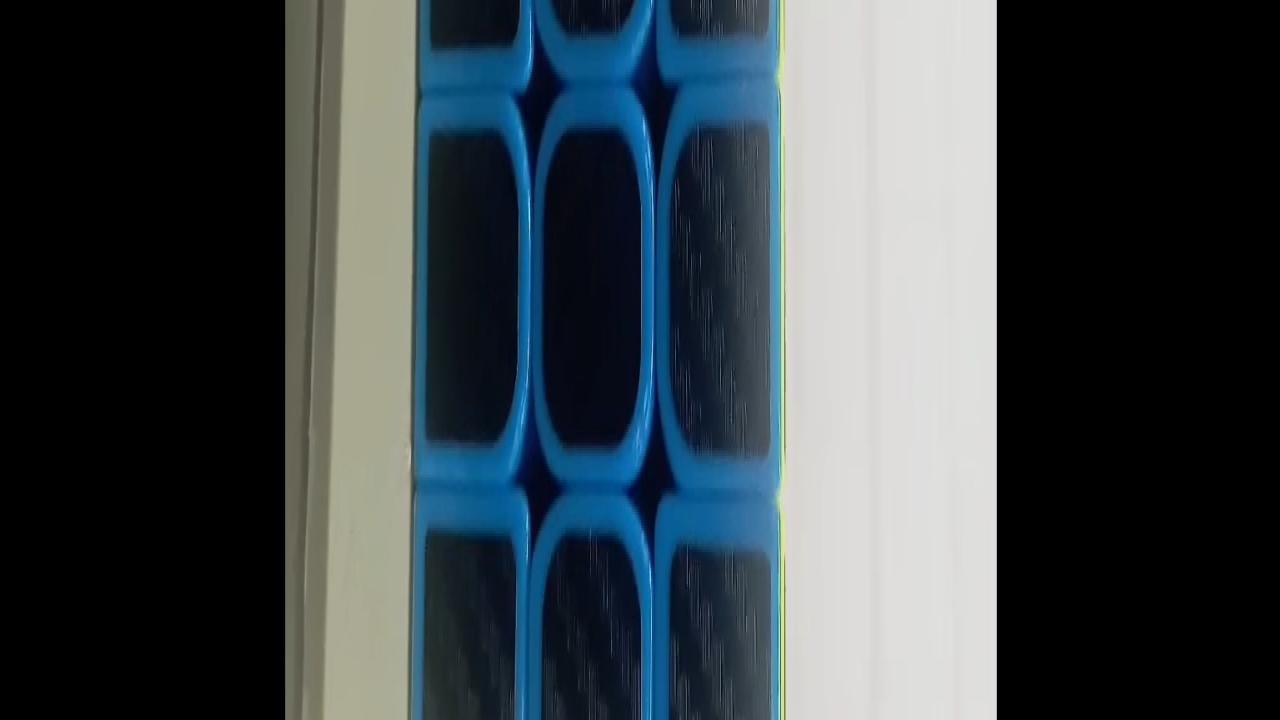Cube: (406, 0, 786, 720)
